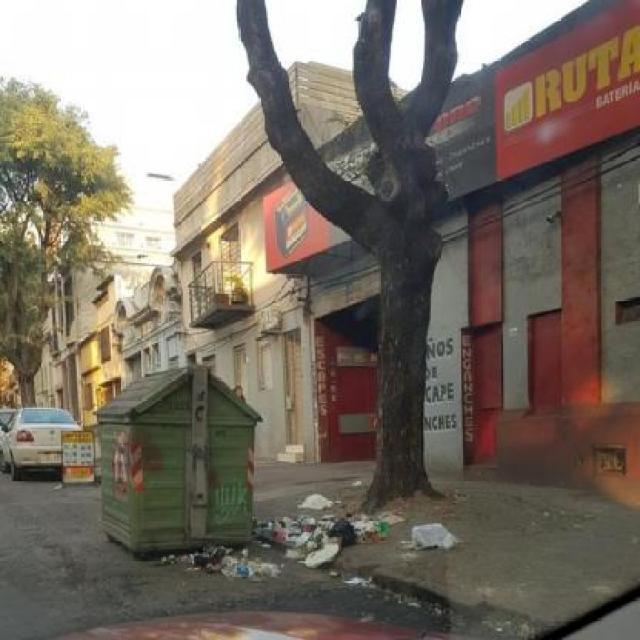garbage: (253, 508, 393, 567), (160, 542, 282, 589), (405, 502, 465, 556), (285, 476, 324, 525)
